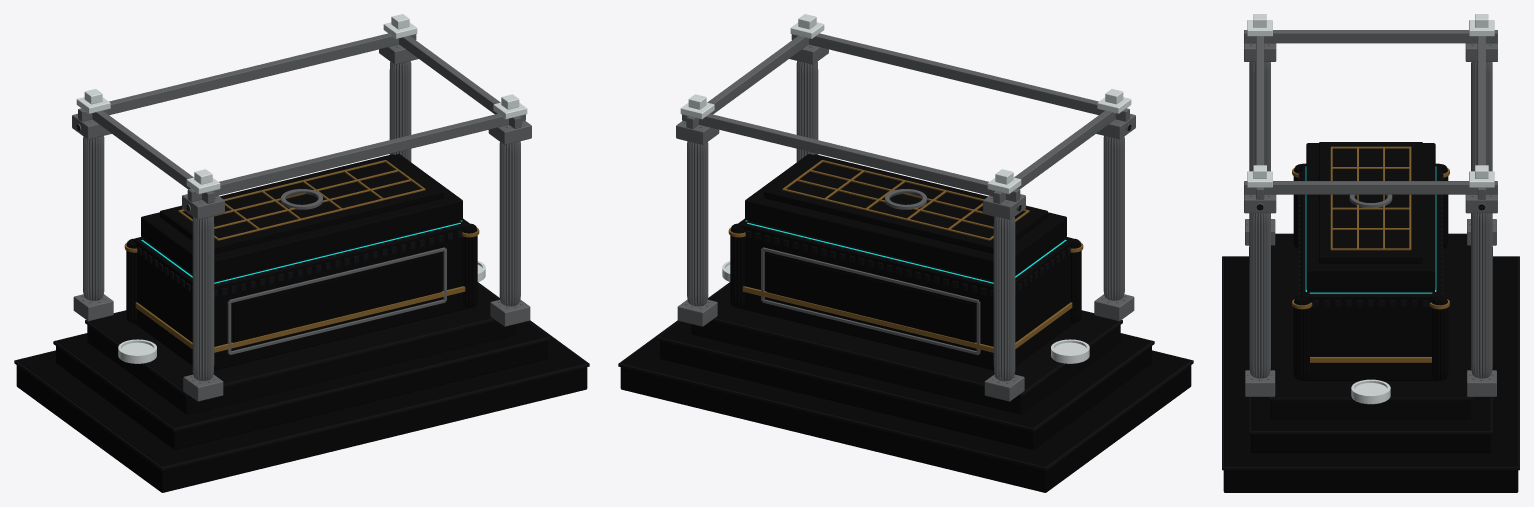
The model's file is vault_sarcophagus.glb.
3 renders of one model, left to right at view 1: azimuth 30°, elevation 25°; view 2: azimuth 150°, elevation 25°; view 3: azimuth 270°, elevation 25°, orthographic.
Parts seen in each view (by area): view 1: Plinth, Sarcophagus, Frame, Lid, Ritual; view 2: Plinth, Sarcophagus, Frame, Lid, Ritual; view 3: Plinth, Frame, Lid, Sarcophagus, Ritual, SealedCore.
Part boxes in pixels (x1,y1,x2,y2): Plinth: [14, 282, 589, 492]; Sarcophagus: [124, 218, 479, 370]; Frame: [72, 33, 531, 401]; Lid: [141, 154, 462, 280]; Ritual: [76, 14, 527, 363]; Plinth: [618, 282, 1193, 492]; Sarcophagus: [728, 218, 1083, 370]; Frame: [676, 33, 1135, 401]; Lid: [745, 154, 1066, 280]; Ritual: [680, 14, 1131, 363]; Plinth: [1222, 233, 1519, 492]; Frame: [1244, 30, 1497, 396]; Lid: [1306, 142, 1435, 290]; Sarcophagus: [1292, 163, 1449, 380]; Ritual: [1247, 14, 1494, 404]; SealedCore: [1305, 166, 1436, 293].
Size of the model in its own units: 4.33 by 2.83 by 2.58.
